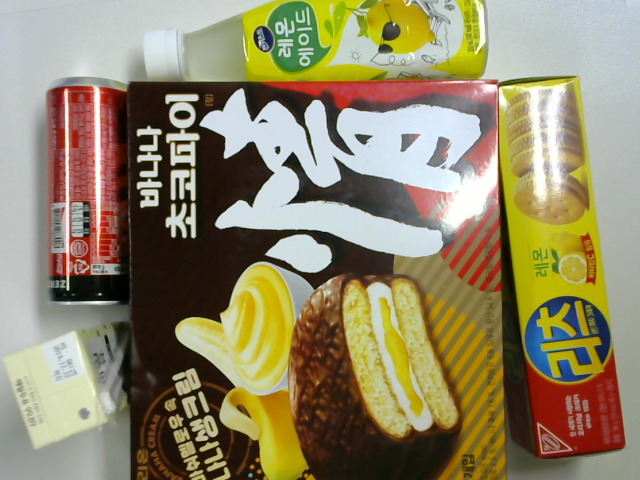99.89_Soymilk: (1, 312, 148, 448)
Choco_Pie_Banana: (118, 78, 513, 480)
Coca_Cola_Zero_Can_250ml: (39, 66, 133, 314)
Ritz_Remon_96g: (482, 65, 631, 462)
Sunkist_Lemonaid_Pet: (129, 1, 500, 102)
